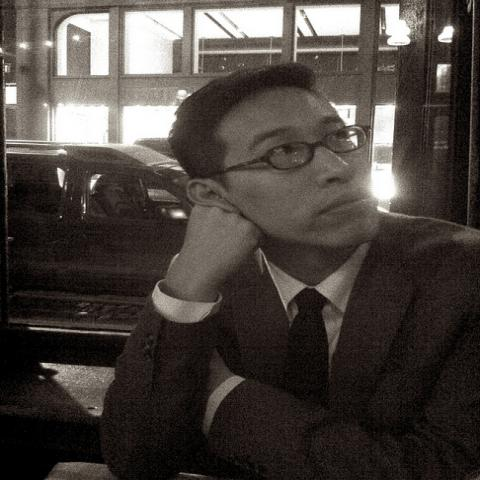car: (6, 137, 194, 374)
